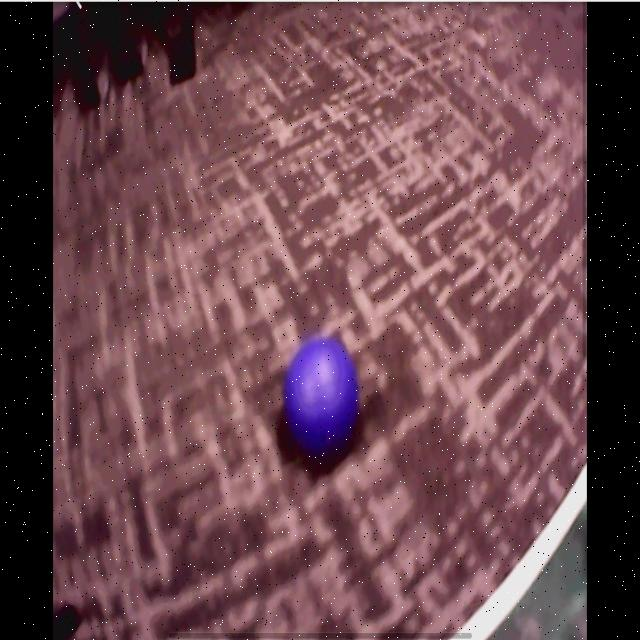ball: (286, 342, 358, 448)
